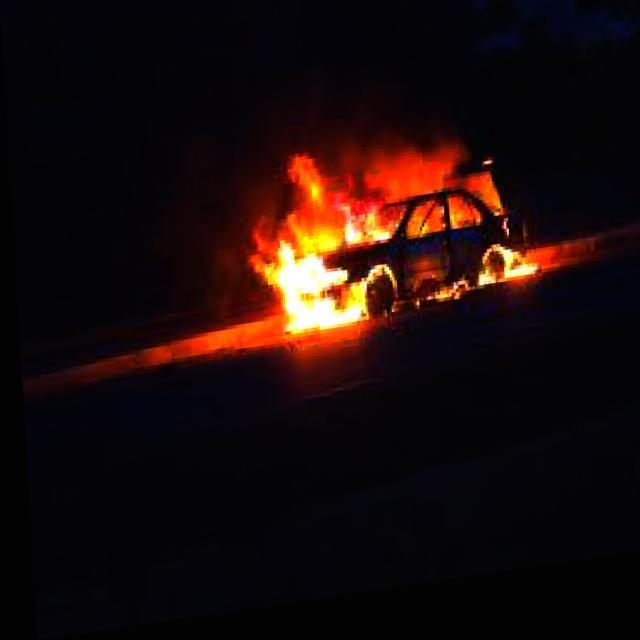Fire: (233, 147, 412, 356), (447, 194, 550, 324)
